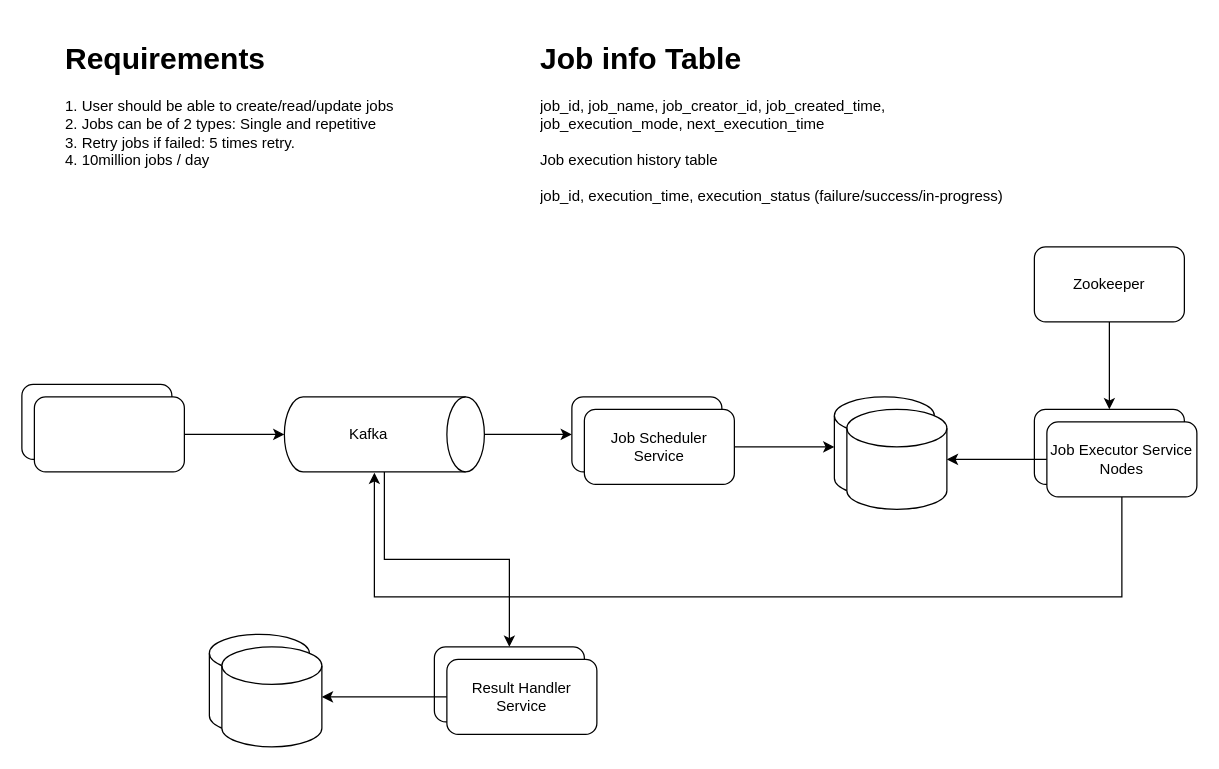
Some shapes in this 1219 by 769 pixel diagram are drawn without their labels. The centre of each missing label's shape, as x and y in pixels:
"Cassandra" belongs at (x=271, y=696).
"DB" belongs at (x=896, y=458).
"Microservice that want to schedule a job" belongs at (x=108, y=434).
